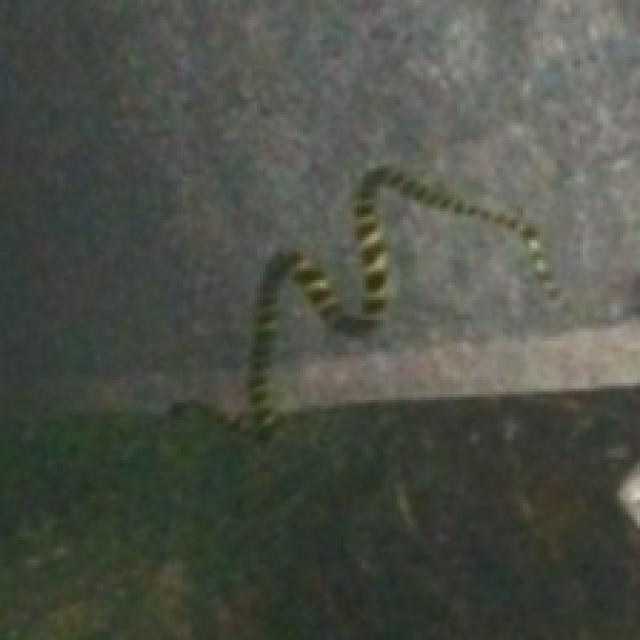mangrove cat snake: (249, 166, 557, 423)
